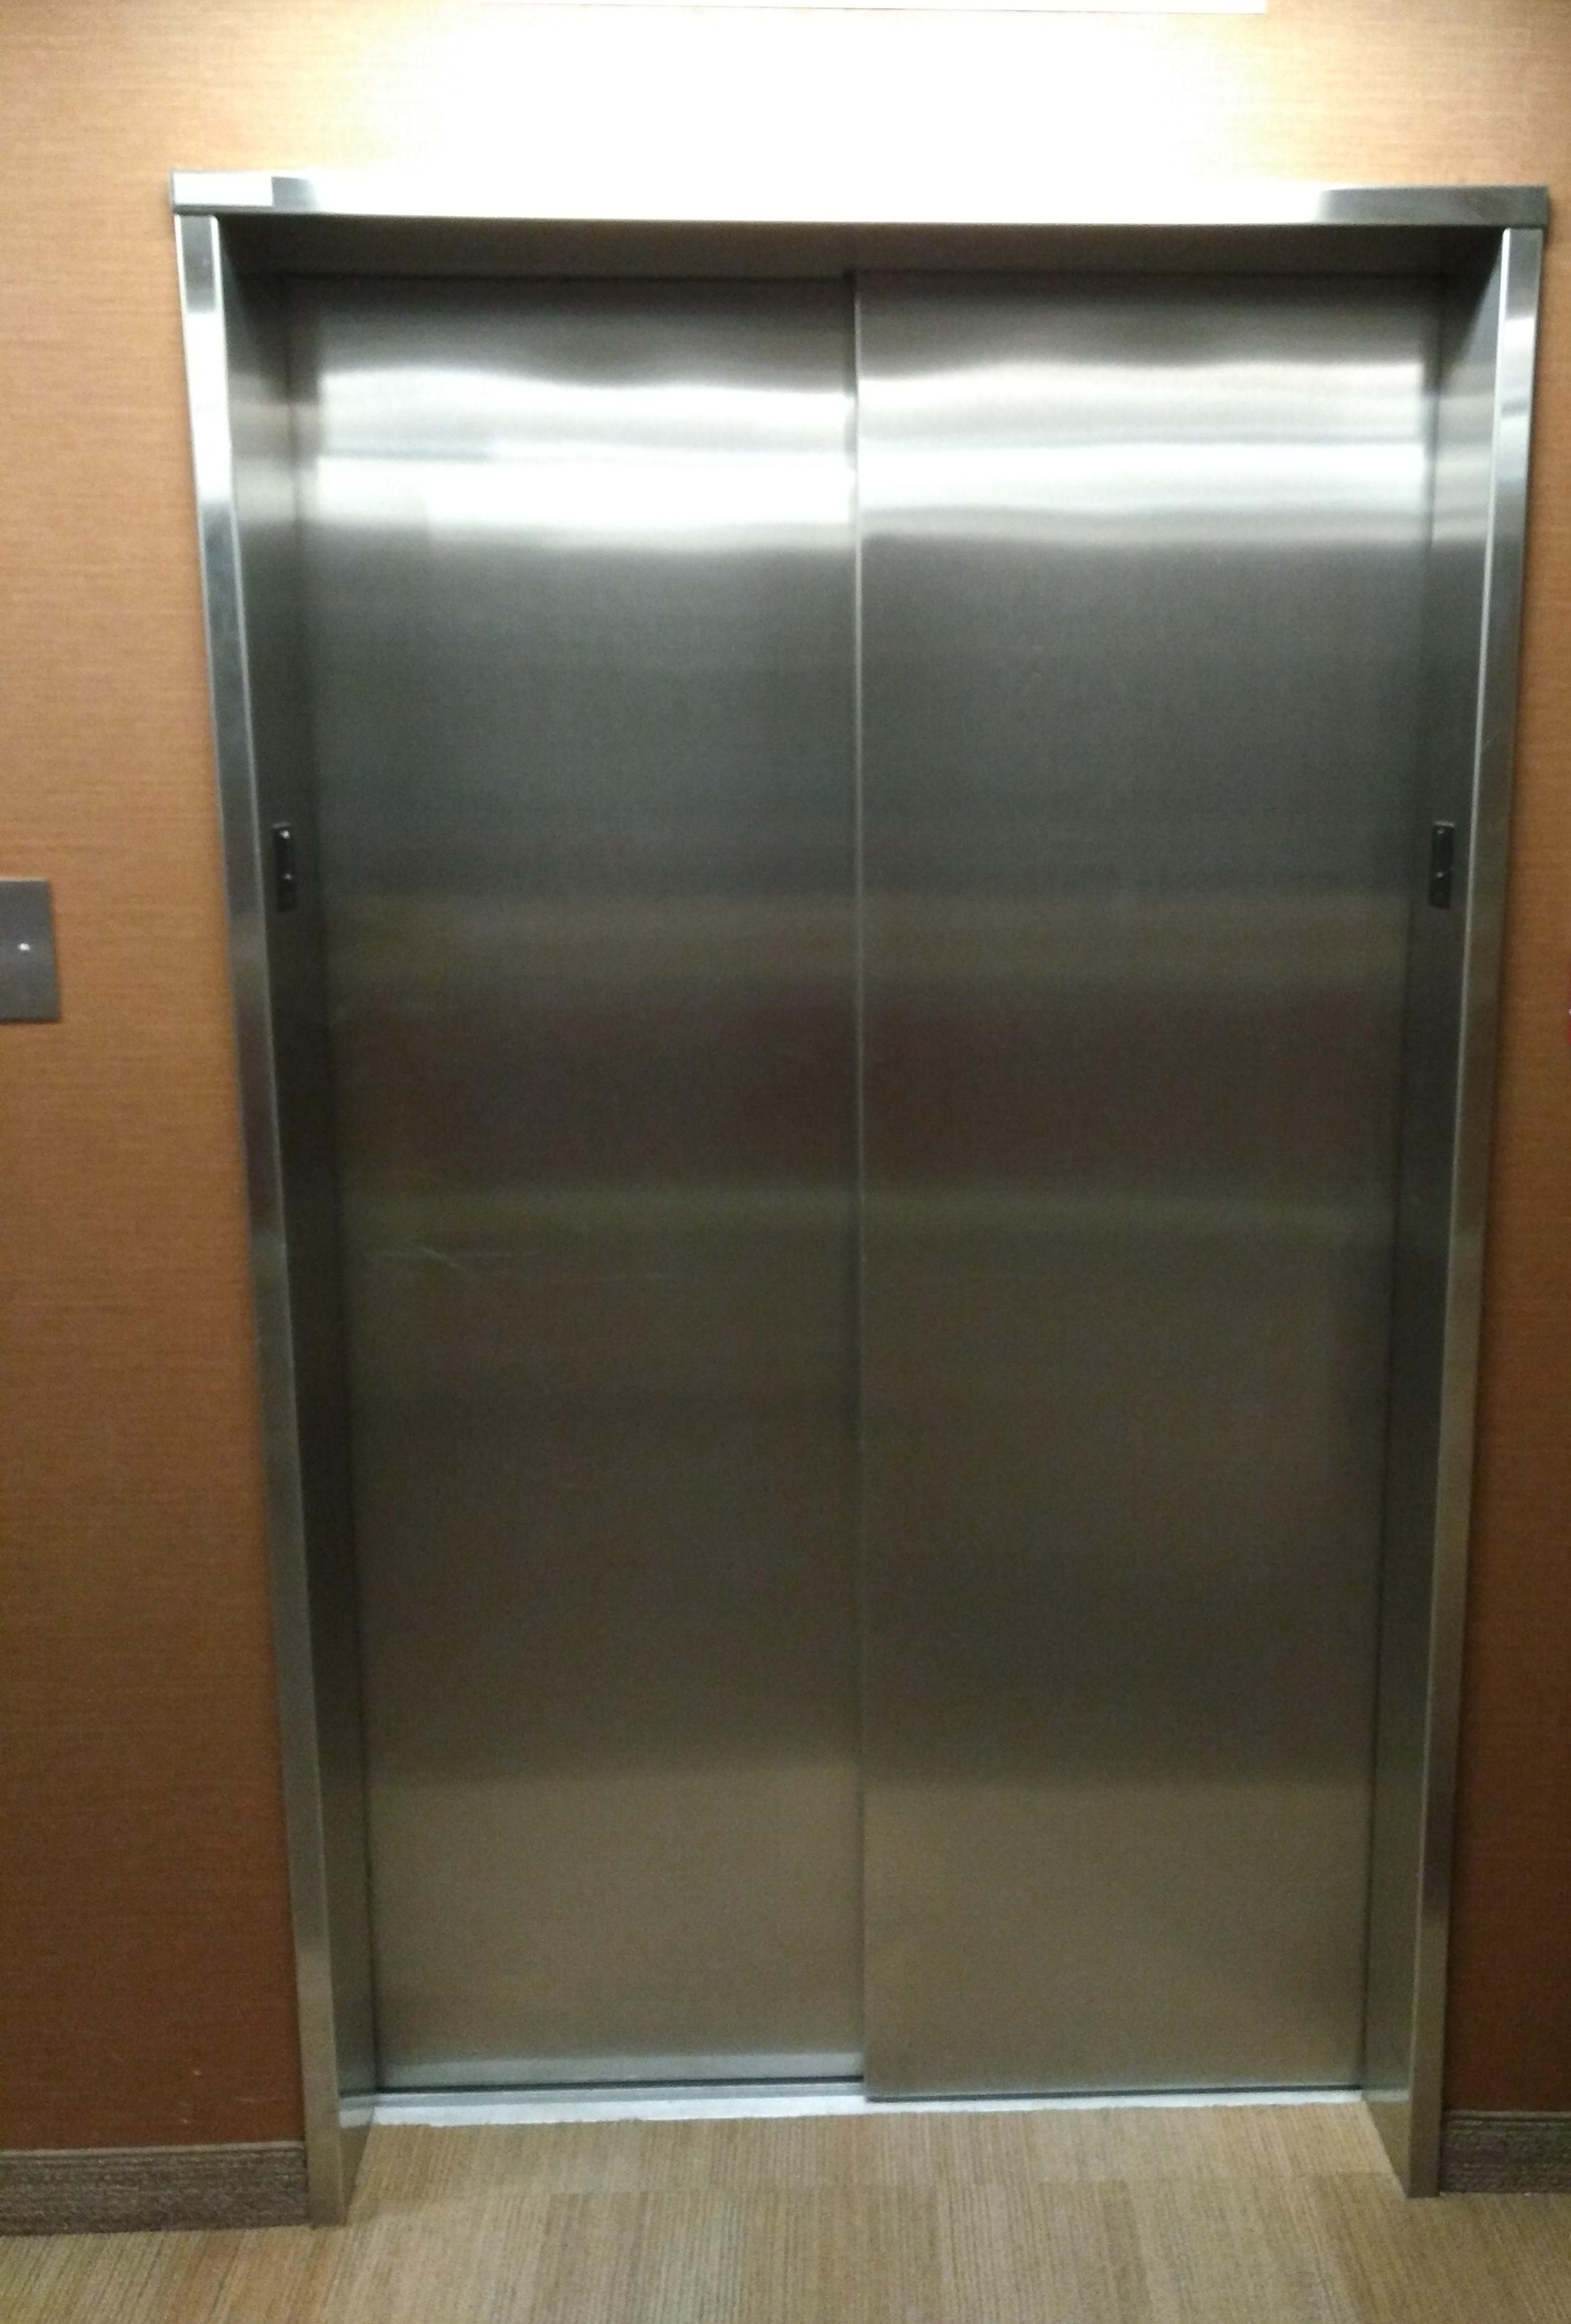door: (186, 168, 1504, 2136)
